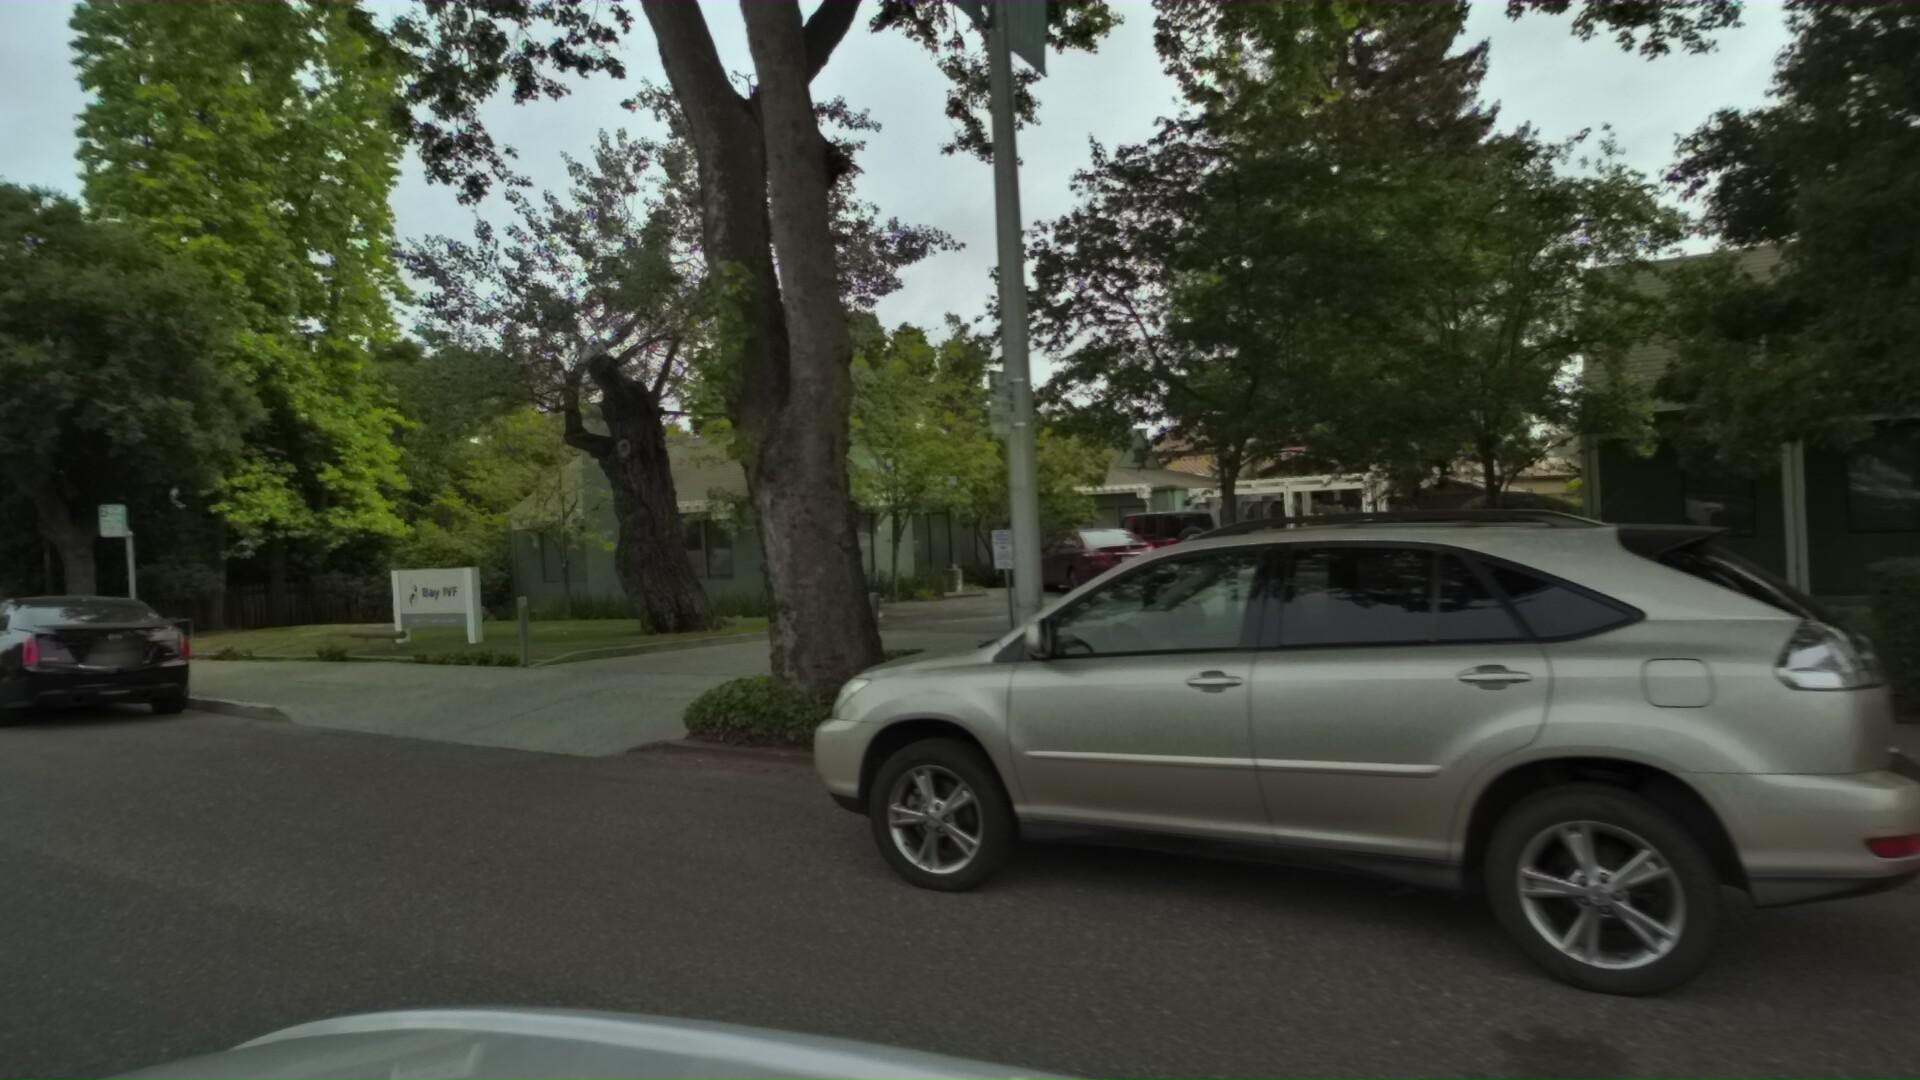car: (800, 456, 1920, 1080), (0, 578, 237, 753), (0, 585, 75, 712)
